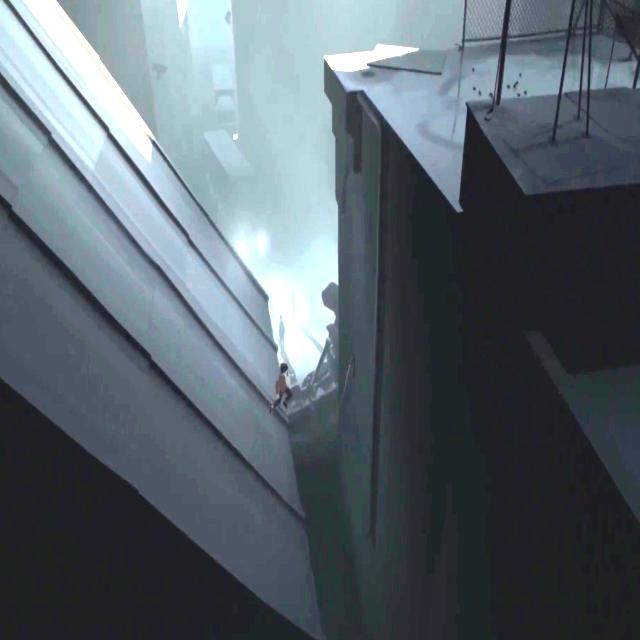boy: (271, 361, 292, 410)
zombie: (278, 314, 286, 354), (291, 282, 295, 322)
